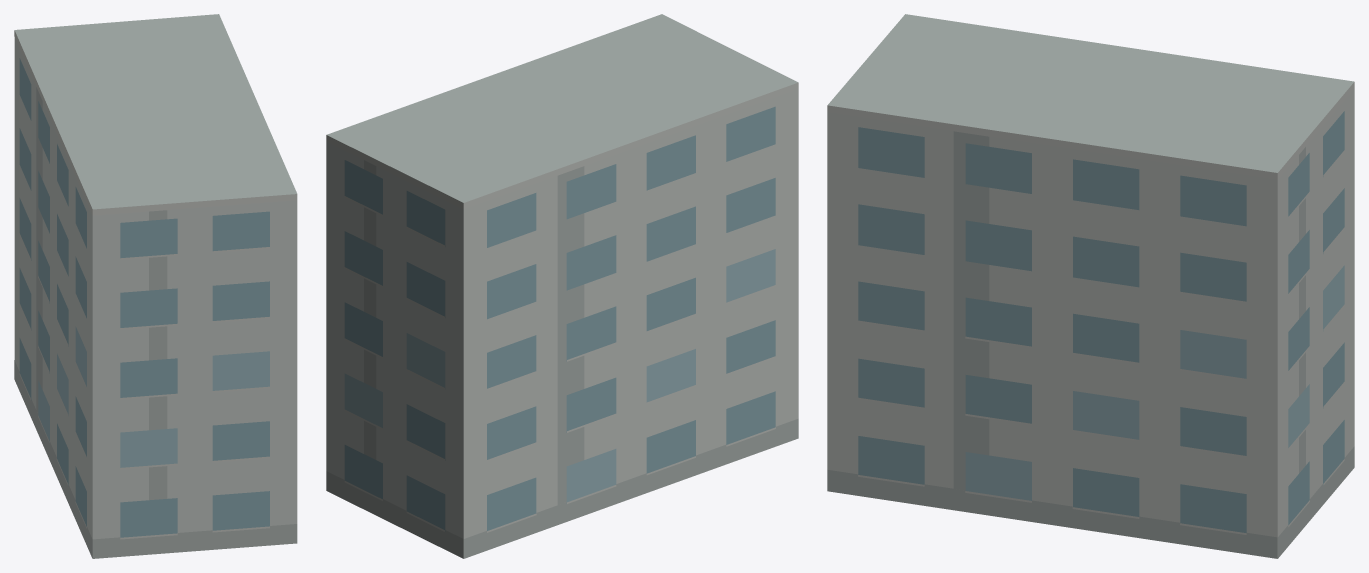
The model's file is survey-upis-32884955.glb.
3 views of the same model, side by side, from view 1: azimuth 30°, elevation 25°; view 2: azimuth 150°, elevation 25°; view 3: azimuth 270°, elevation 25° (orthographic). The views are drawn at different scales.
Parts seen in each view (by area): view 1: survey-upis-32884955.tmp; view 2: survey-upis-32884955.tmp; view 3: survey-upis-32884955.tmp.
Boxes of the visible parts, x1,y1,x2,y2 form: survey-upis-32884955.tmp: (14,14,297,558); survey-upis-32884955.tmp: (326,14,798,558); survey-upis-32884955.tmp: (827,14,1354,558).
Bounding box in the file's own units: 11.85 × 13.4 × 16.6.
